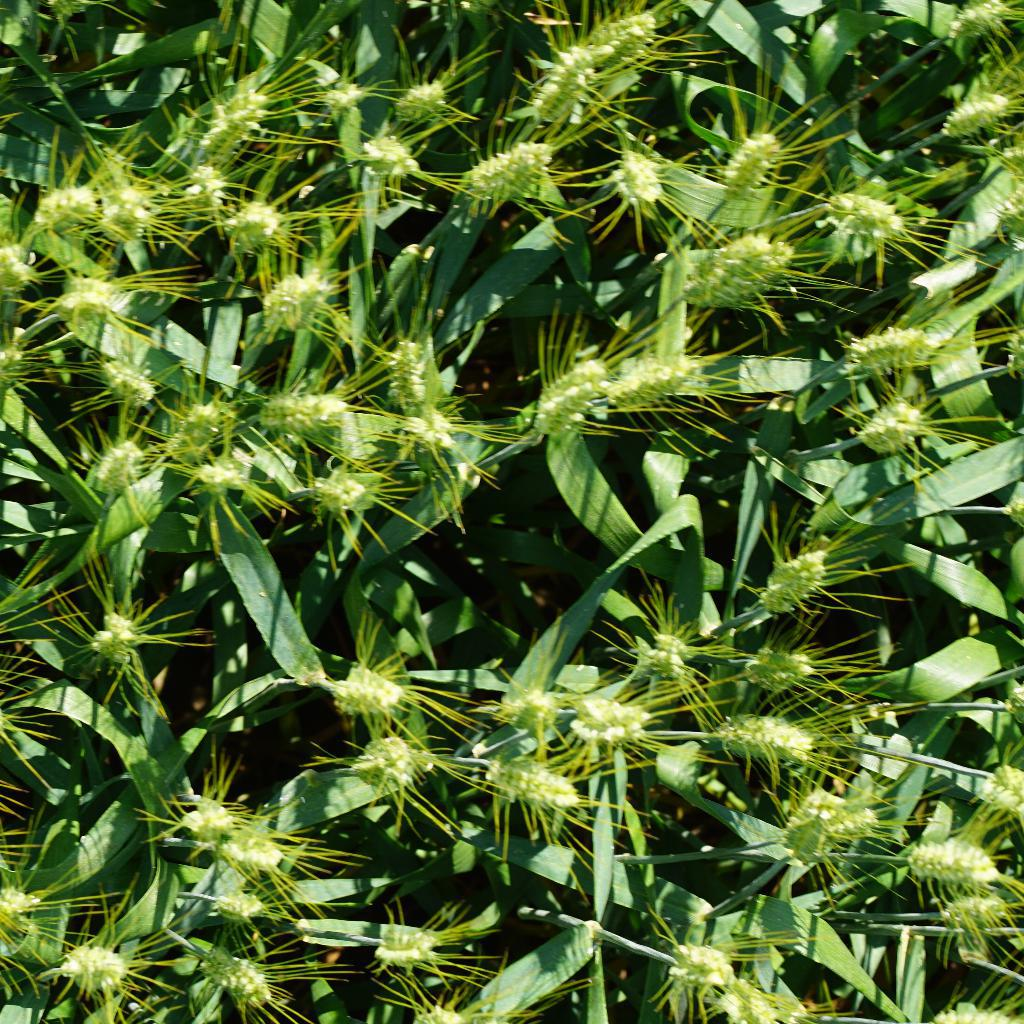0-0: (687, 232, 802, 310), (522, 344, 612, 434), (819, 168, 893, 262), (612, 351, 707, 422), (526, 44, 598, 137), (721, 701, 817, 769), (464, 142, 572, 202), (486, 755, 587, 817), (253, 377, 359, 436), (848, 311, 942, 373), (71, 604, 157, 671), (718, 118, 792, 195), (187, 944, 276, 1008), (900, 832, 1004, 886), (262, 266, 337, 336), (576, 687, 653, 754), (750, 549, 837, 608), (793, 793, 875, 854), (189, 90, 272, 150), (328, 660, 406, 722), (83, 431, 152, 501), (352, 728, 421, 798), (96, 350, 164, 418), (580, 10, 672, 60), (940, 0, 1023, 55), (387, 337, 443, 418), (845, 400, 930, 451), (609, 145, 679, 206), (355, 131, 428, 189), (167, 161, 231, 225), (60, 936, 129, 995), (668, 941, 736, 1000), (175, 402, 235, 468), (948, 89, 1017, 146), (368, 922, 445, 972), (944, 894, 1024, 942), (302, 455, 367, 514), (740, 642, 823, 688), (104, 171, 159, 240), (227, 830, 302, 879), (180, 787, 249, 840), (27, 172, 94, 225), (397, 407, 463, 458), (501, 676, 561, 731), (387, 71, 455, 119), (58, 275, 124, 324), (187, 456, 250, 502), (0, 877, 44, 940), (728, 986, 799, 1024), (647, 620, 694, 672), (0, 239, 33, 313), (316, 73, 366, 119), (232, 202, 280, 246), (212, 887, 264, 926), (982, 766, 1024, 814)
